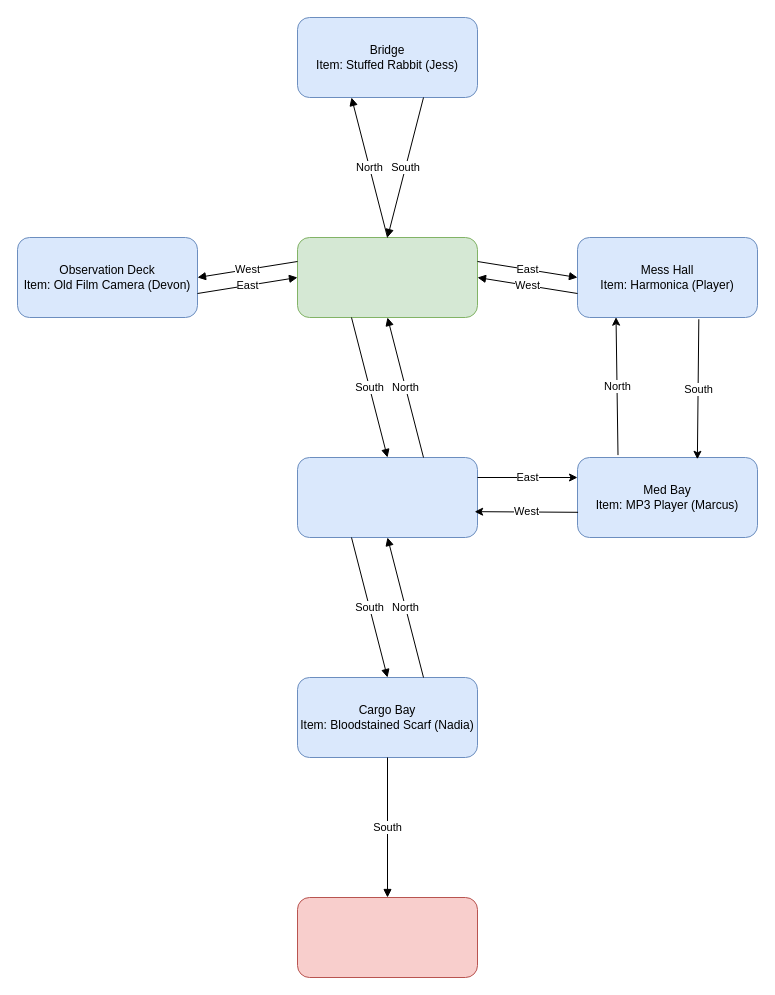
The diagram is 775 pixels wide and 995 high, and some of its shapes have lost their labels. The shapes that lost their labels are listed below. From the top down, each one's centre as x and y in pixels, then its label:
At point 387,277: "Crew Quarters (START - no item)".
At point 387,497: "Engine Room Item: Potted Plant (Priya)".
At point 387,937: "Reactor Room (VILLAIN - Nadia Infected - no item)".
